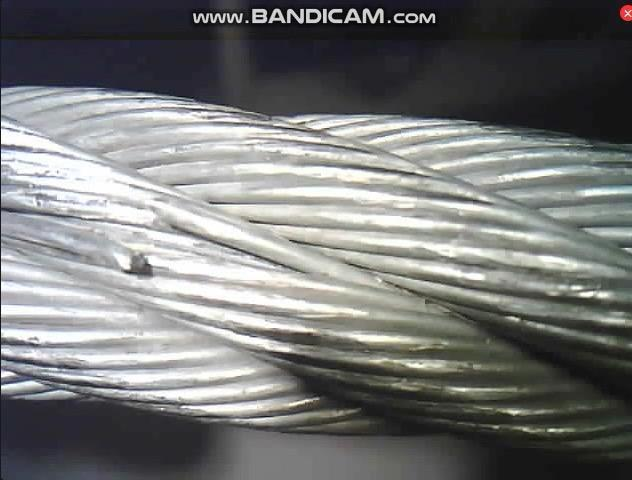break: (97, 205, 162, 292)
